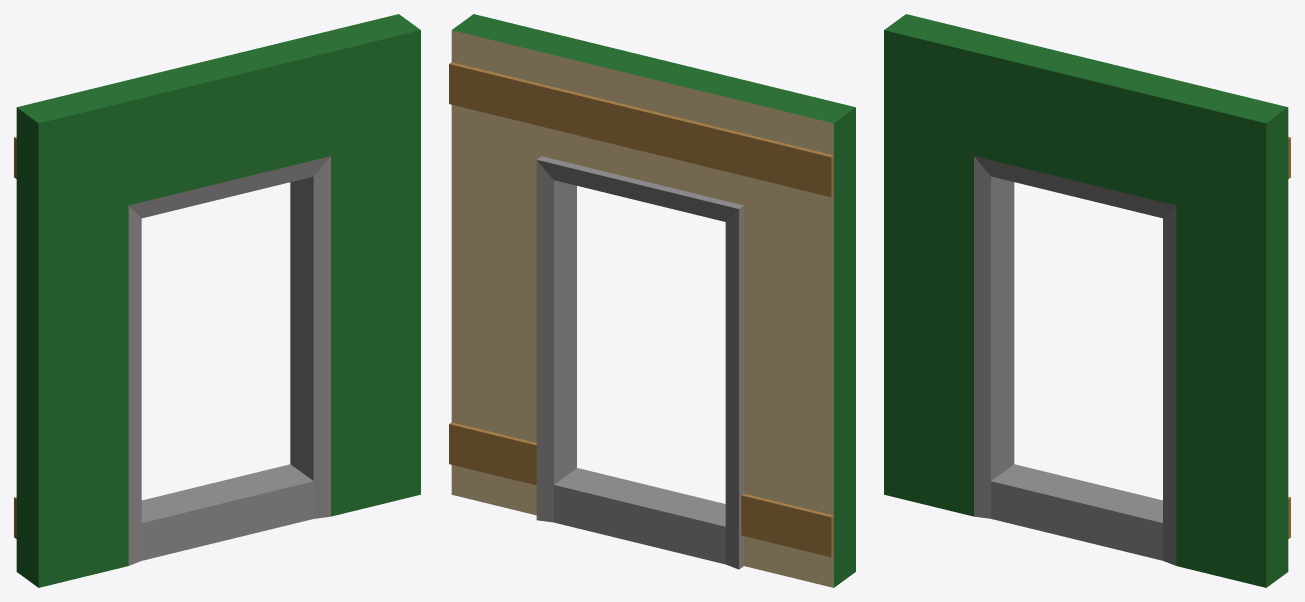
Rendered from Elevator Wall.fbx.
The picture shows the model from 3 angles, left to right: view 1: azimuth 30°, elevation 25°; view 2: azimuth 150°, elevation 25°; view 3: azimuth 330°, elevation 25°; orthographic projection.
Parts seen in each view (by area): view 1: Elevator Wall; view 2: Elevator Wall; view 3: Elevator Wall.
Part boxes in pixels (x1,y1,x2,y2): Elevator Wall: [14, 14, 420, 587]; Elevator Wall: [449, 14, 855, 587]; Elevator Wall: [884, 14, 1290, 587].
Bounding box in the file's own units: 200 × 232 × 24.49.
